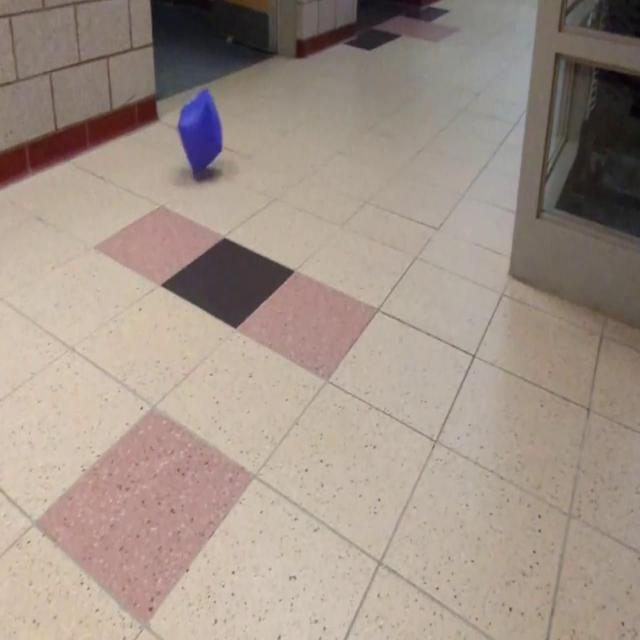frc_cube: (177, 88, 223, 177)
